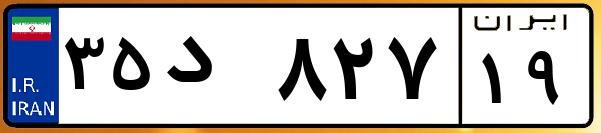1: (475, 38, 525, 113)
2: (330, 28, 385, 110)
3: (57, 26, 110, 100)
5: (110, 28, 158, 98)
7: (385, 28, 445, 110)
8: (270, 28, 330, 110)
9: (525, 38, 570, 115)
د: (158, 20, 270, 120)
